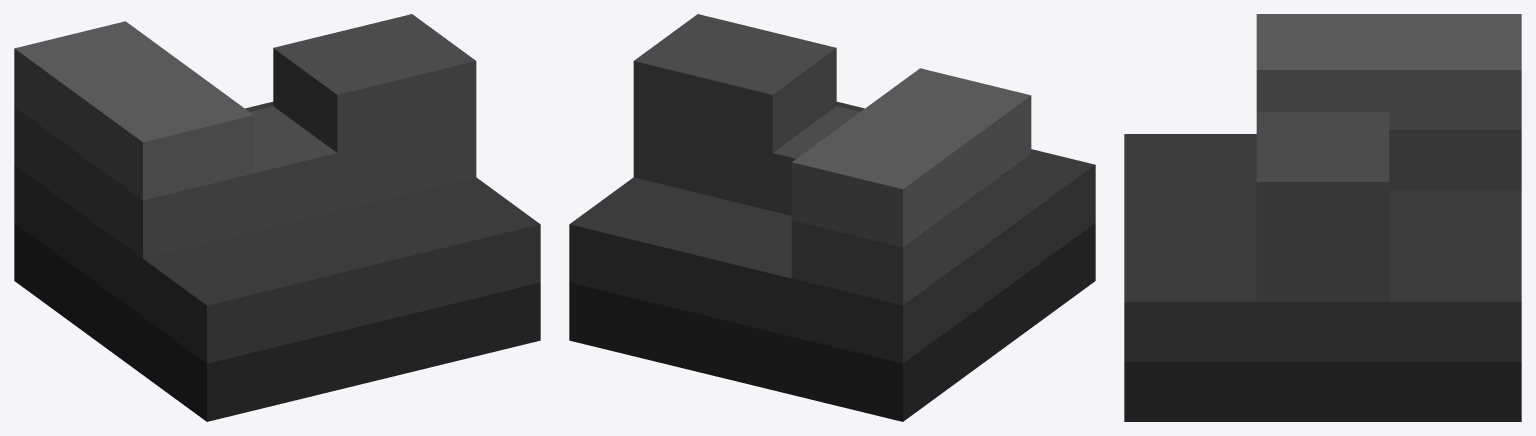
File: Stone_3_LODGroup.fbx
The picture shows the model from 3 angles, left to right: view 1: azimuth 30°, elevation 25°; view 2: azimuth 150°, elevation 25°; view 3: azimuth 270°, elevation 25°; orthographic projection. The views are drawn at different scales.
Visible parts, largest first — view 1: Stone_3_LOD0; view 2: Stone_3_LOD0; view 3: Stone_3_LOD0.
Part boxes in pixels (left/top/right/bottom): Stone_3_LOD0: left=14, top=14, right=540, bottom=421; Stone_3_LOD0: left=569, top=14, right=1095, bottom=421; Stone_3_LOD0: left=1124, top=14, right=1521, bottom=421.
Size of what is drawn, in the model's own units: 0.804 by 0.536 by 0.804.
